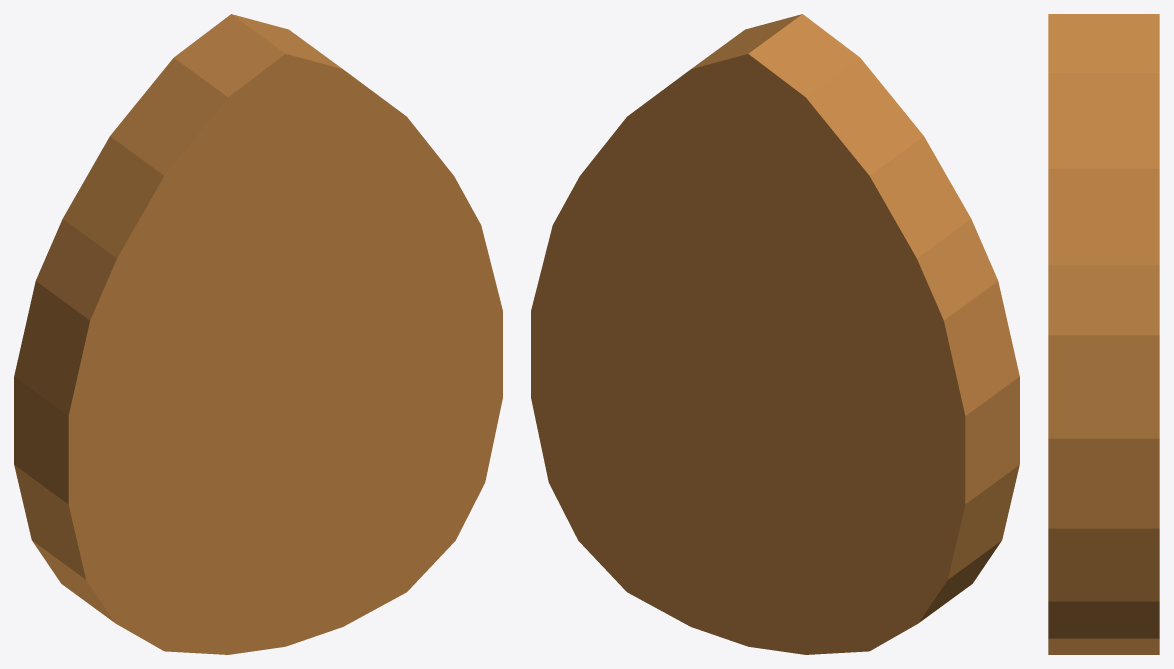
Rendered from Seed.fbx.
3 renders of one model, left to right at view 1: azimuth 30°, elevation 25°; view 2: azimuth 150°, elevation 25°; view 3: azimuth 270°, elevation 25°, orthographic. The views are drawn at different scales.
Visible parts, largest first — view 1: Seed; view 2: Seed; view 3: Seed.
Part boxes in pixels (x1,y1,x2,y2): Seed: (14, 14, 502, 654); Seed: (531, 14, 1019, 654); Seed: (1048, 14, 1159, 654).
Bounding box in the file's own units: 1.84 × 2.4 × 0.4.
